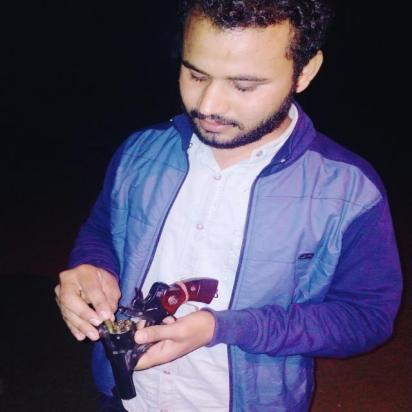Gun: (88, 276, 222, 401)
